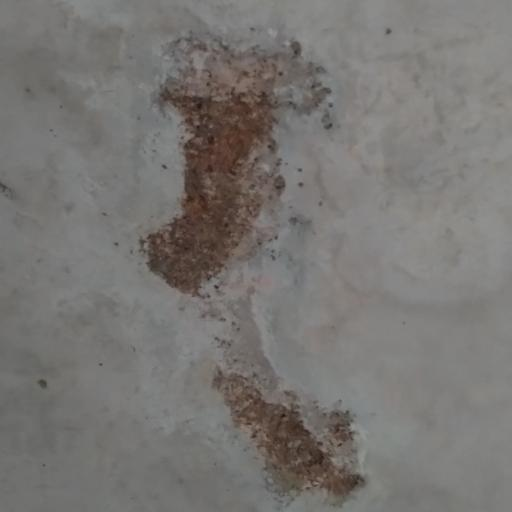spalling: (126, 0, 386, 343), (185, 338, 374, 511)
